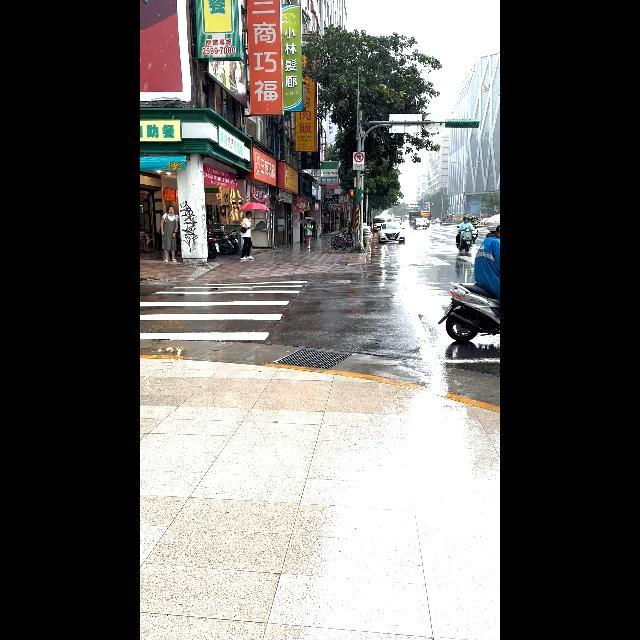sidewalk: (140, 278, 306, 363)
